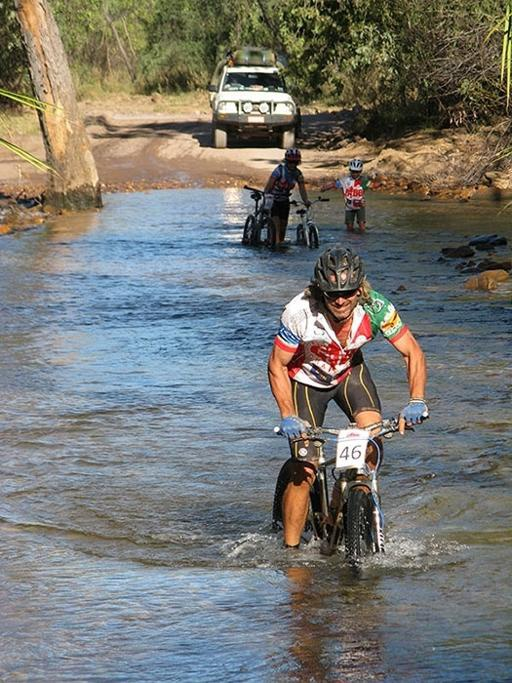non-vehicle: (267, 412, 429, 581), (239, 182, 289, 248), (283, 194, 331, 249)
